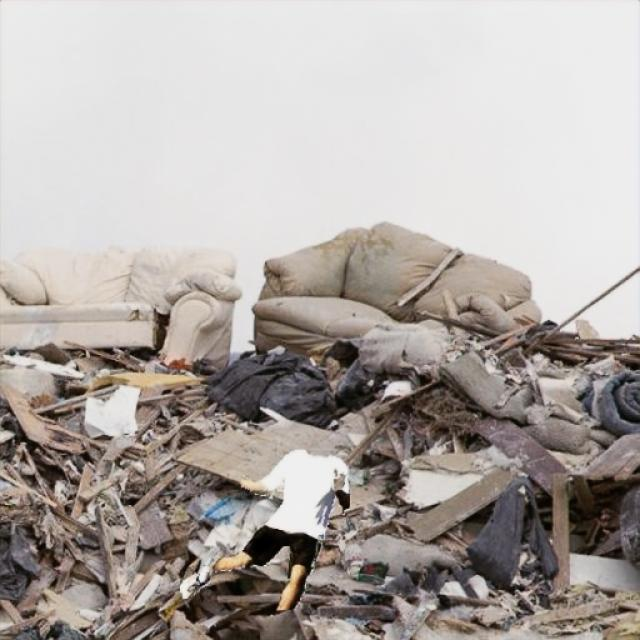Person in Rubble: (180, 450, 349, 610)
